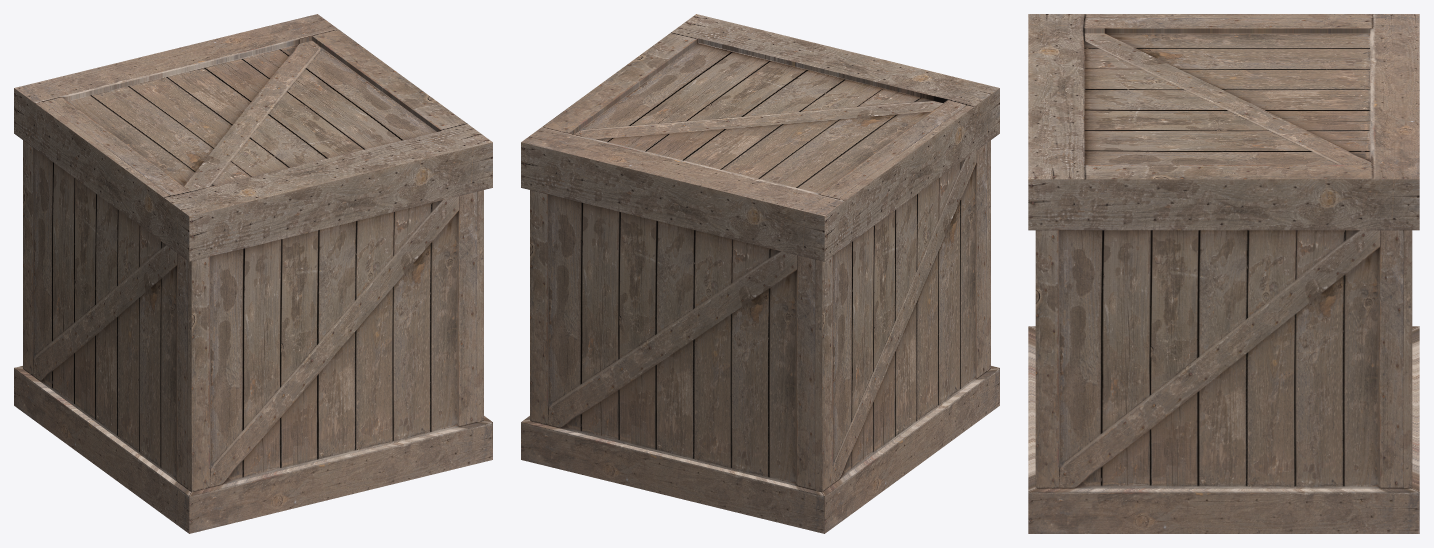
File: crate.fbx
3 views of the same model, side by side, from view 1: azimuth 30°, elevation 25°; view 2: azimuth 150°, elevation 25°; view 3: azimuth 270°, elevation 25° (orthographic). The views are drawn at different scales.
Visible parts, largest first — view 1: crate; view 2: crate; view 3: crate.
Boxes of the visible parts, left/top/right/bottom form: crate: left=14, top=14, right=492, bottom=533; crate: left=521, top=14, right=999, bottom=533; crate: left=1028, top=14, right=1419, bottom=533.
Bounding box in the file's own units: 200 × 200 × 200.
